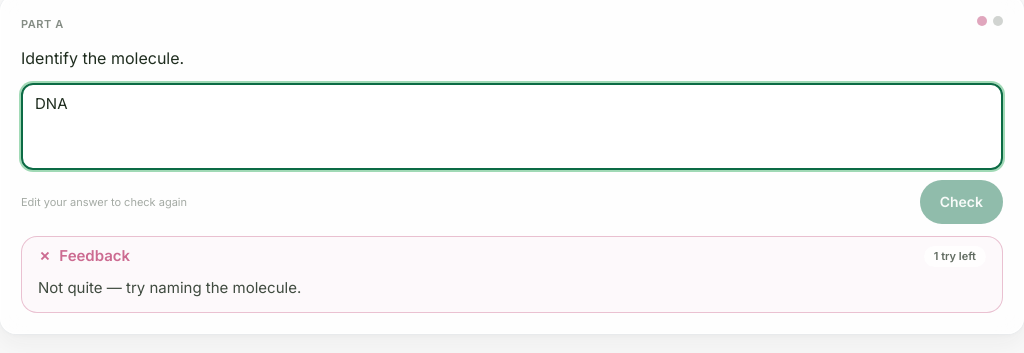
it: PartCard › keeps Check disabled on a retry until the answer is edited
Check: the button "Check" is disabled, box [920,180,1003,224]
# Editing the answer enables it.
Replace the text in the text box named "Answer for Part A" with "DNA molecule". click: (512, 126)
box: [21,82,1003,170]
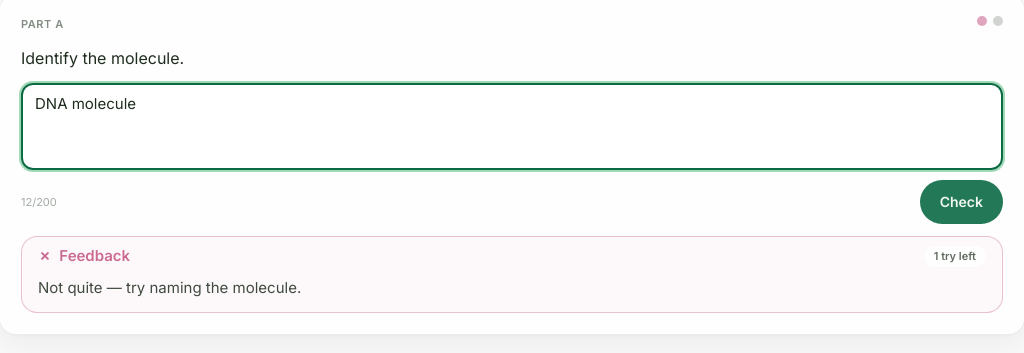
Check: the button "Check" is enabled, box [920,180,1003,224]
# Reverting to the exact previous answer disables it again.
Replace the text in the text box named "Answer for Part A" with "DNA". click: (512, 126)
box: [21,82,1003,170]
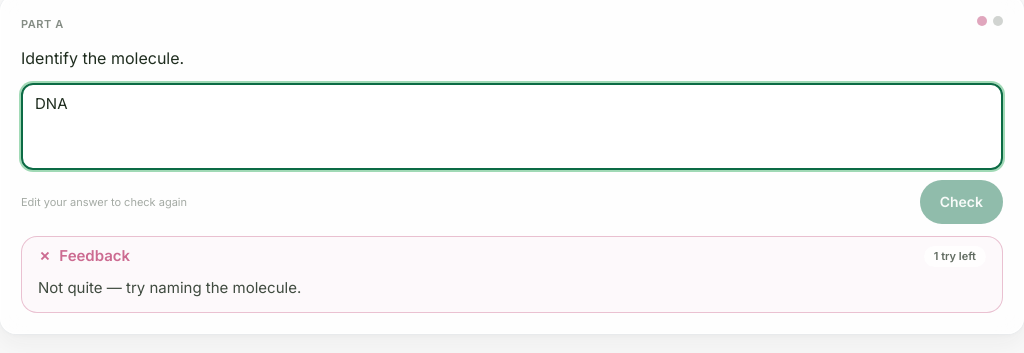
Check: the button "Check" is disabled, box [920,180,1003,224]
